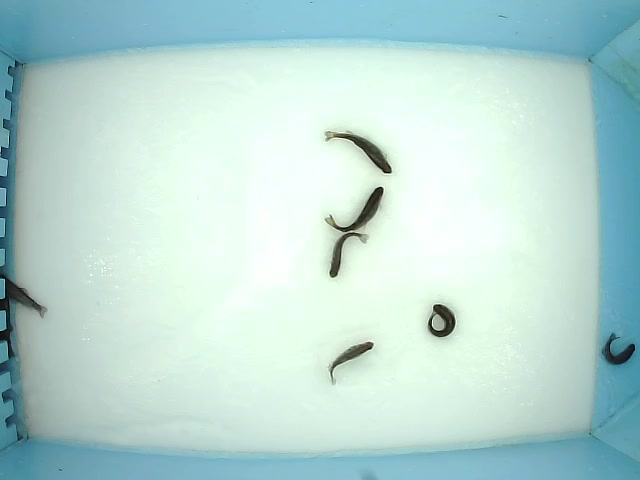fish: (323, 129, 393, 175), (323, 186, 384, 232), (1, 273, 49, 320), (327, 341, 375, 387), (328, 232, 371, 278), (601, 331, 636, 367), (426, 303, 457, 339)
